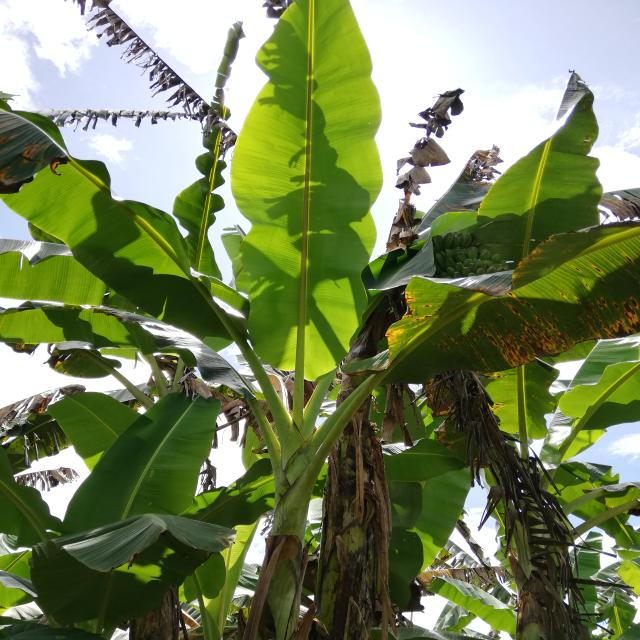Banana-plant: (228, 364, 356, 640)
